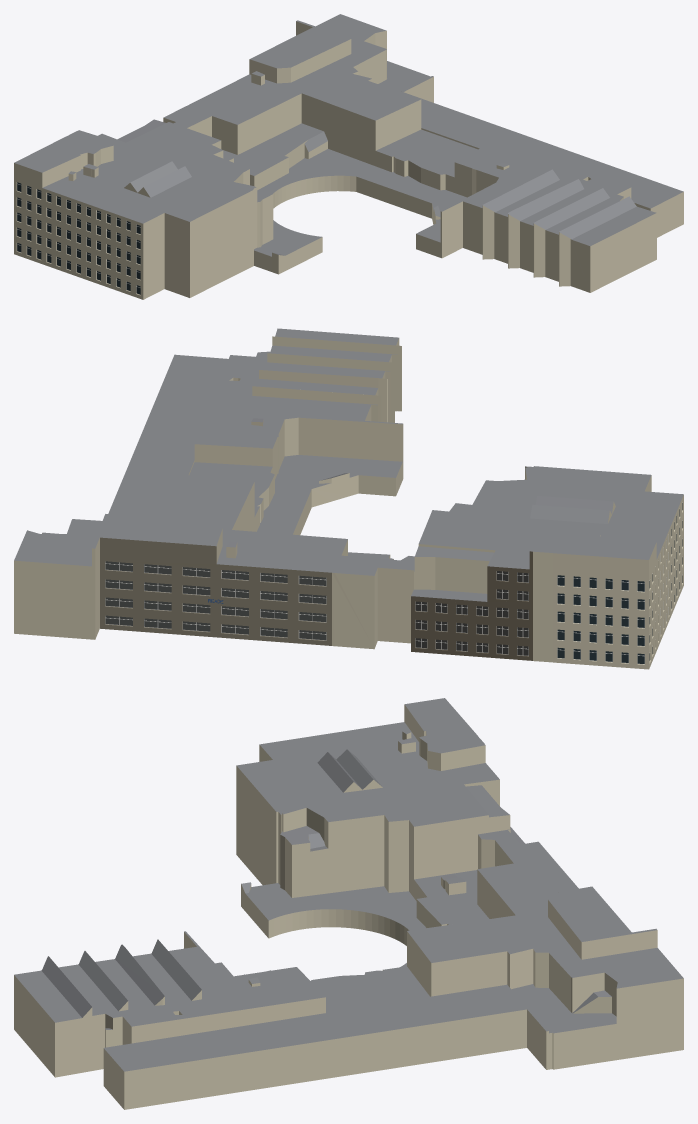
The model's file is recipe-large-overtoom-283-084999.glb.
3 renders of one model, top to bottom at view 1: azimuth 30°, elevation 25°; view 2: azimuth 150°, elevation 25°; view 3: azimuth 270°, elevation 25°, orthographic. The views are drawn at different scales.
Parts seen in each view (by area): view 1: overtoom-283-084999; view 2: overtoom-283-084999; view 3: overtoom-283-084999.
Boxes of the visible parts, bbox=[...] form: overtoom-283-084999: bbox=[14, 14, 683, 299]; overtoom-283-084999: bbox=[14, 328, 683, 669]; overtoom-283-084999: bbox=[14, 698, 683, 1109].
Size of the model in its own units: 133 by 21.83 by 124.
